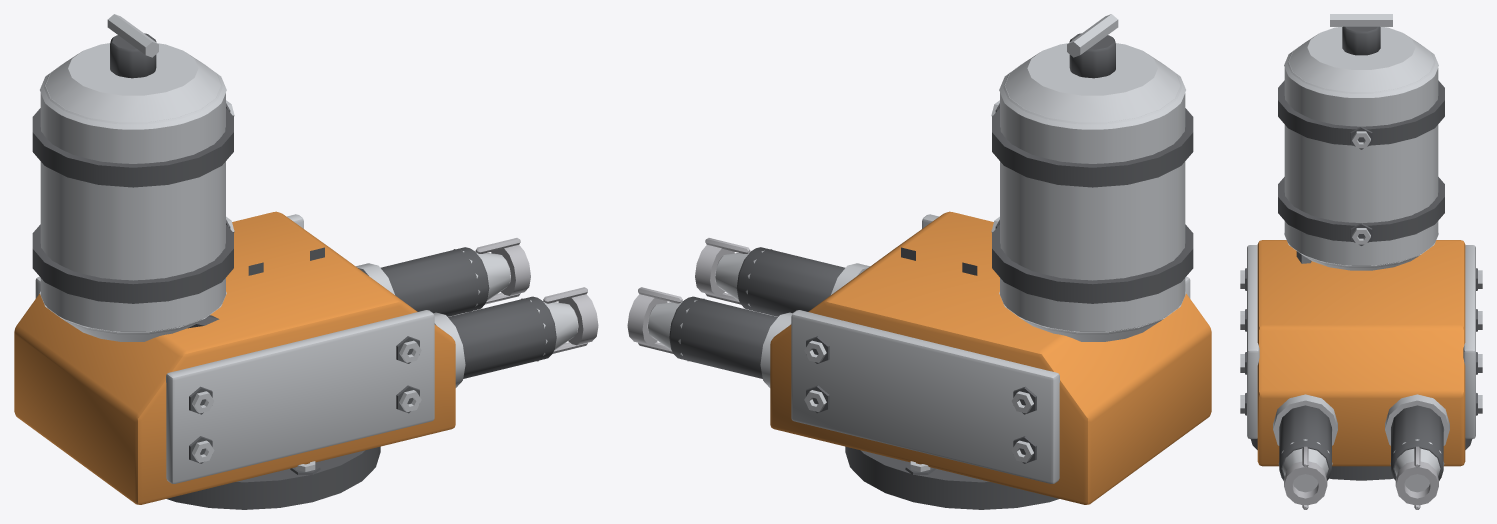
The model's file is grudge.glb.
The picture shows the model from 3 angles, left to right: view 1: azimuth 30°, elevation 25°; view 2: azimuth 150°, elevation 25°; view 3: azimuth 270°, elevation 25°; orthographic projection. The views are drawn at different scales.
Visible parts, largest first — view 1: body; view 2: body; view 3: body.
Boxes of the visible parts, box(x1,y1,x2,y2) form: body: box(14, 14, 598, 509); body: box(627, 14, 1211, 509); body: box(1240, 14, 1482, 509).
Bounding box in the file's own units: 0.54 × 0.458 × 0.2688.
